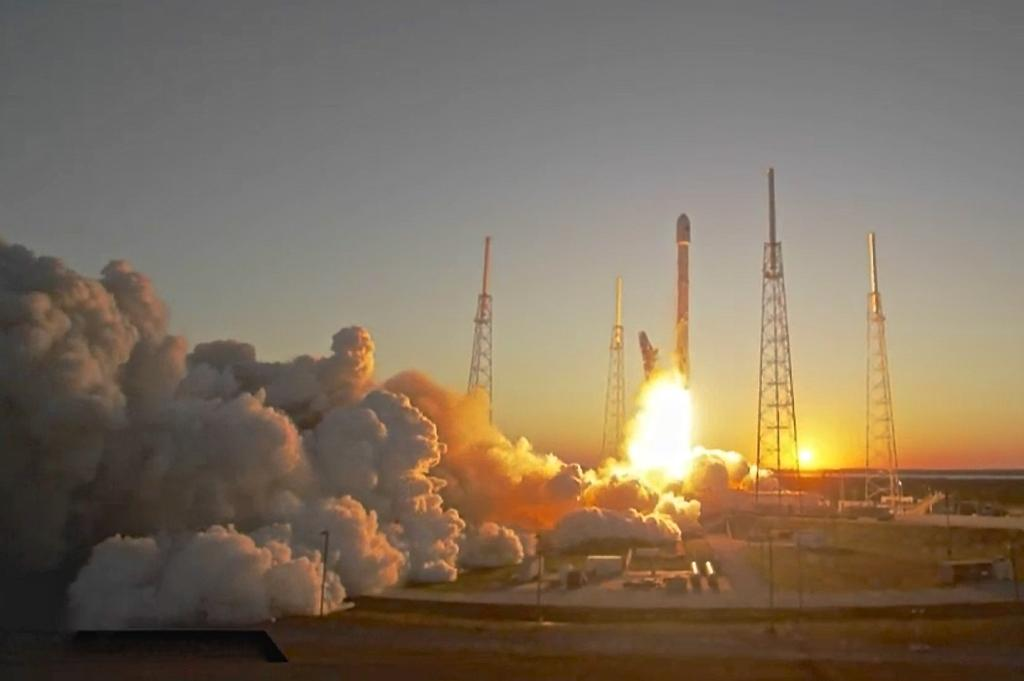Missile: (662, 204, 695, 386)
